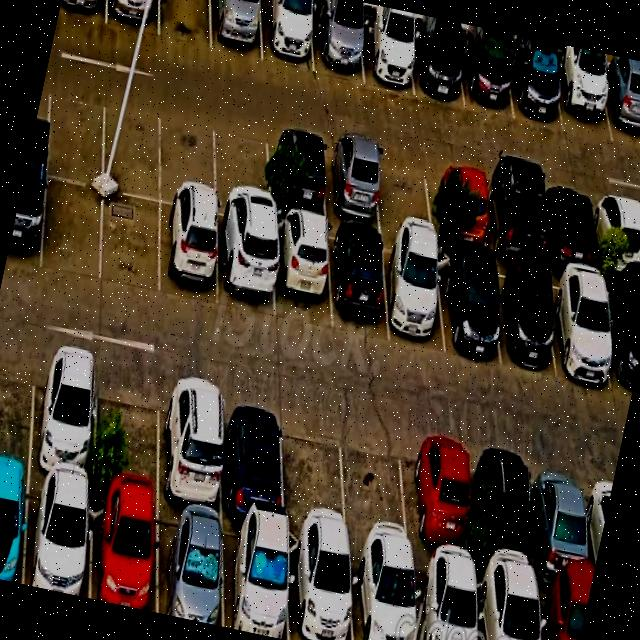empty: (342, 413, 412, 555), (94, 358, 160, 502), (283, 401, 347, 542), (102, 91, 163, 201), (41, 177, 103, 282), (46, 78, 104, 186), (101, 191, 160, 297), (214, 115, 269, 225), (160, 104, 215, 212), (375, 146, 433, 236), (0, 337, 35, 471), (159, 0, 211, 49)
occupied: (29, 343, 97, 487), (159, 373, 222, 515), (408, 424, 470, 568), (532, 449, 593, 589), (222, 386, 283, 525), (23, 475, 90, 598), (156, 504, 223, 627), (480, 438, 537, 579), (91, 490, 156, 612), (223, 518, 288, 640), (548, 266, 613, 386), (435, 250, 500, 365), (489, 259, 555, 371), (382, 236, 444, 353), (288, 531, 353, 640), (329, 224, 389, 338), (273, 214, 331, 329), (350, 547, 416, 640), (159, 203, 217, 307), (483, 169, 545, 264), (216, 217, 273, 319), (413, 557, 478, 640), (268, 126, 326, 219), (430, 158, 488, 250), (553, 54, 612, 142), (324, 137, 381, 228), (542, 180, 598, 269), (509, 41, 563, 131), (475, 569, 540, 640), (408, 26, 464, 107), (461, 32, 513, 118), (603, 276, 640, 396), (359, 15, 413, 94), (5, 167, 46, 270), (593, 188, 640, 277), (260, 0, 314, 72), (313, 5, 363, 81), (598, 63, 640, 148), (0, 470, 29, 584), (537, 580, 590, 640), (211, 0, 262, 61), (106, 0, 159, 35), (58, 0, 106, 23)
